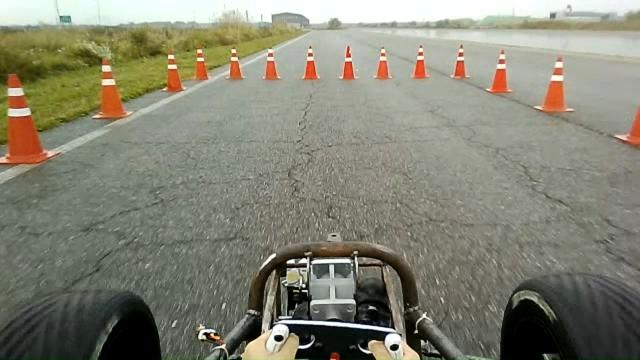red cone: (0, 72, 61, 165), (91, 57, 133, 119), (533, 56, 575, 113), (486, 48, 514, 94), (612, 104, 638, 147), (161, 49, 186, 92), (334, 44, 355, 80), (450, 43, 470, 80), (301, 44, 320, 80), (373, 45, 392, 80), (225, 47, 245, 80), (411, 44, 430, 78), (262, 46, 281, 80), (192, 47, 210, 80)
